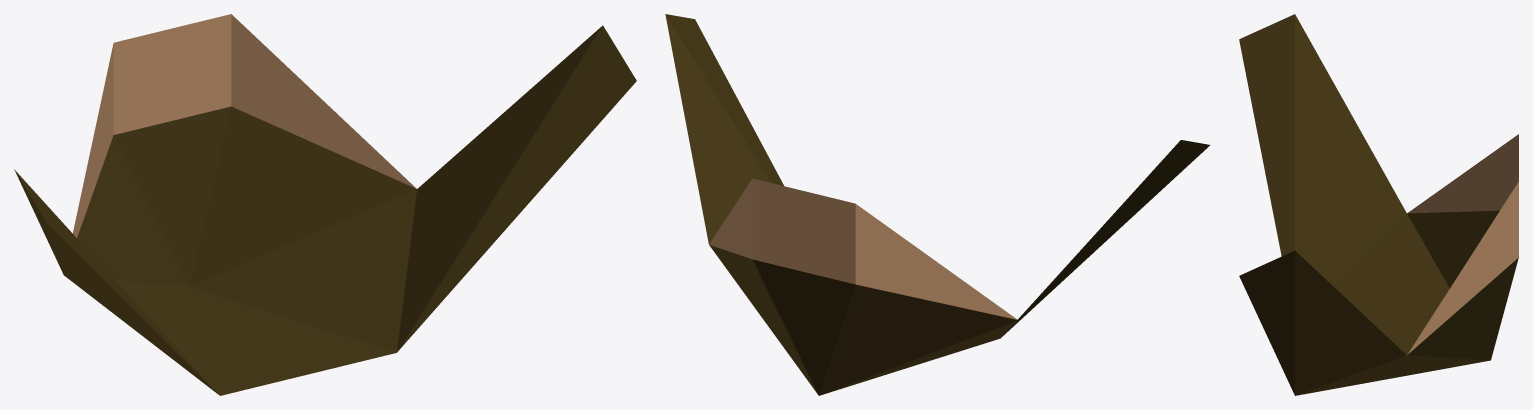
The model's file is player_male_beard_15_0.obj.
3 views of the same model, side by side, from view 1: azimuth 30°, elevation 25°; view 2: azimuth 150°, elevation 25°; view 3: azimuth 270°, elevation 25° (orthographic). The views are drawn at different scales.
Bounding box in the file's own units: 0.1562 × 0.0703 × 0.0781.
